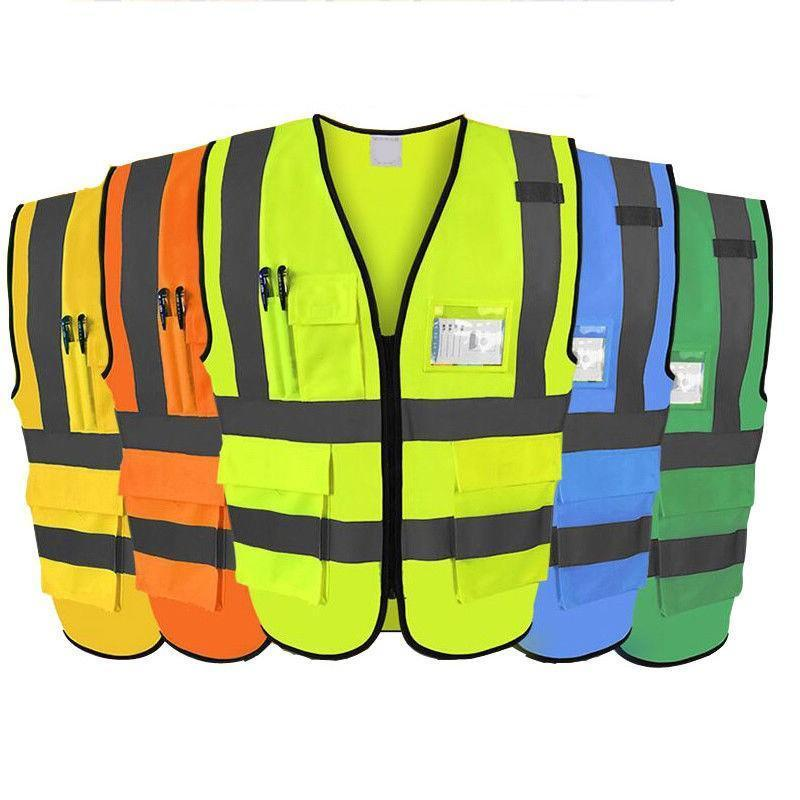vest: (200, 110, 583, 656), (100, 146, 271, 666), (510, 150, 681, 663), (613, 188, 774, 665), (6, 180, 162, 659)
